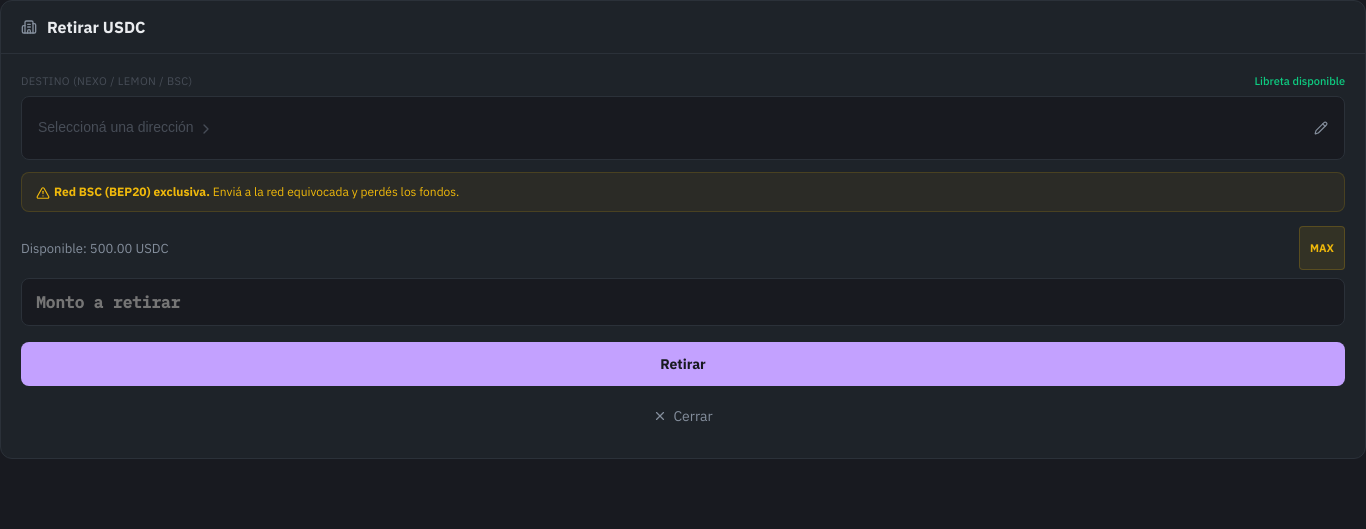
Test: Withdraw Component › handleWithdraw — validaciones › sin dirección seleccionada (selectedEntry null): muestra error al intentar retirar
The width and height of the screenshot is (1366, 529).
Type "100" into the number field with placeholder "Monto a retirar" at (683, 302), box [21,278,1345,326]
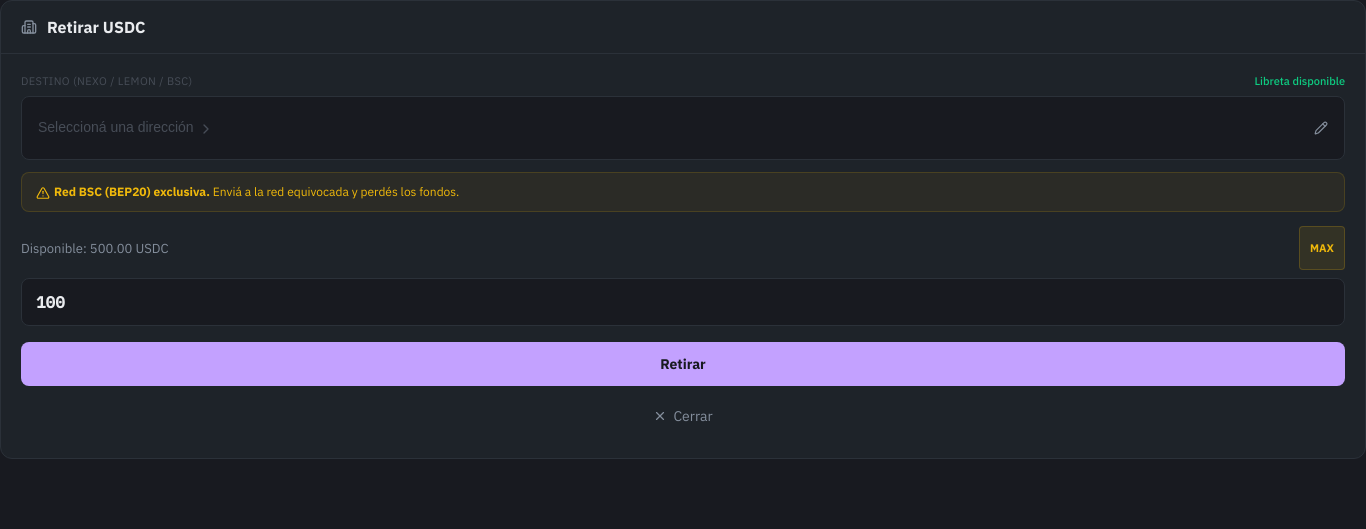
Click the button "Retirar" at (683, 364), box [21,342,1345,386]
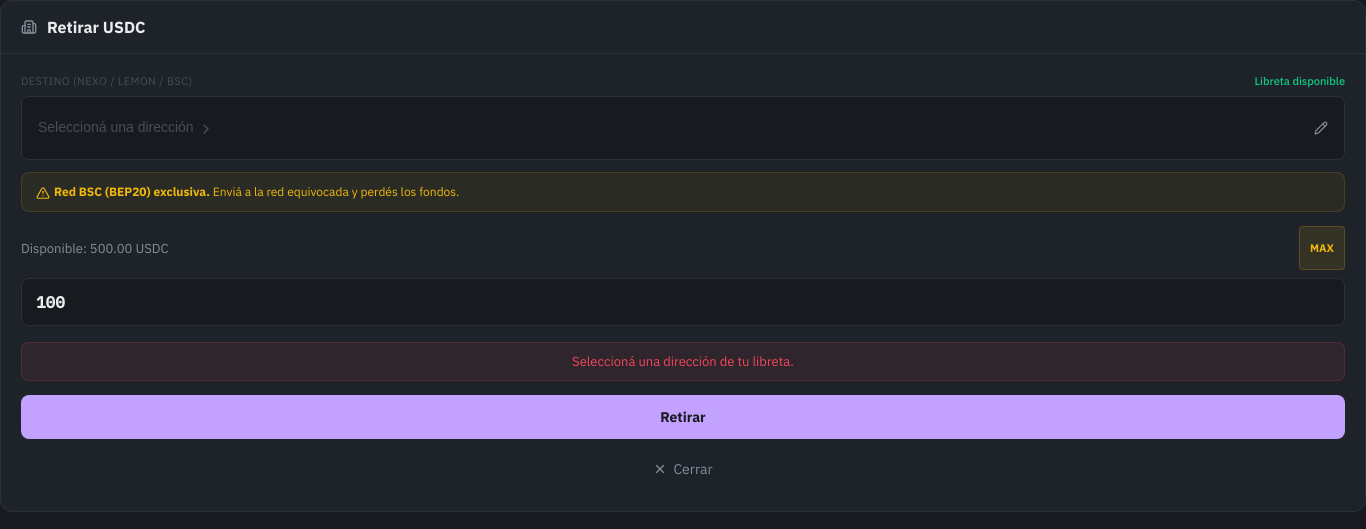
Expected: the text "Seleccioná una dirección de tu libreta." is shown, [21,342,1345,381]
